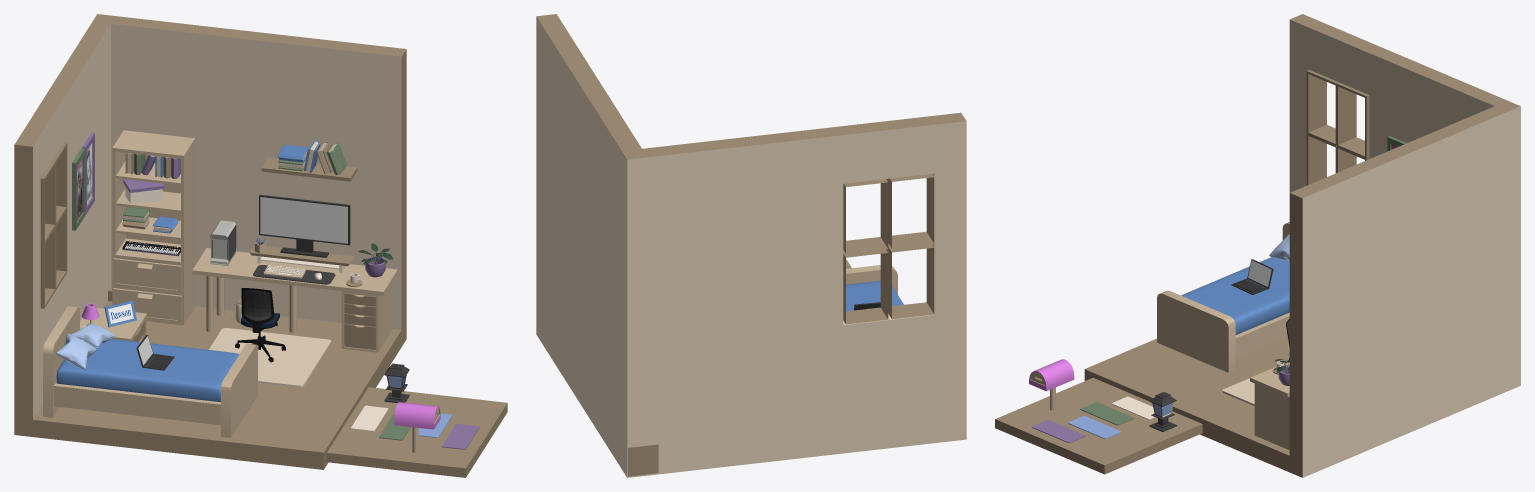
The model's file is room_group.glb.
3 renders of one model, left to right at view 1: azimuth 30°, elevation 25°; view 2: azimuth 150°, elevation 25°; view 3: azimuth 270°, elevation 25°, orthographic. The views are drawn at different scales.
Visible parts, largest first — view 1: Room, Bed, Shelf, Outside, Table, Monitor, Floor Items, Shelf Items, Wall Shelf, Peripherals, Mini Table, Chair Top (+10 smaller); view 2: Room, Bed, Cube; view 3: Room, Bed, Outside, Table, Mailbox, Laptop, Lamp, OutsideCarpet1, OutsideCarpet2, OutsideCarpet3.
Boxes of the visible parts, x1,y1,x2,y2 form: Room: (14, 14, 406, 469); Bed: (43, 305, 257, 437); Shelf: (112, 130, 194, 325); Outside: (327, 387, 507, 477); Table: (192, 248, 397, 352); Monitor: (259, 194, 350, 257); Floor Items: (209, 299, 331, 387); Shelf Items: (122, 153, 180, 256); Wall Shelf: (261, 141, 357, 181); Peripherals: (210, 220, 393, 283); Mini Table: (249, 237, 354, 272); Chair Top: (241, 288, 279, 332); Room: (536, 14, 966, 477); Bed: (846, 265, 903, 311); Cube: (628, 444, 658, 476); Room: (1084, 14, 1520, 477); Bed: (1157, 222, 1289, 372); Outside: (995, 378, 1202, 474); Table: (1250, 362, 1289, 449); Mailbox: (1029, 359, 1074, 410); Laptop: (1231, 259, 1273, 294); Lamp: (1149, 392, 1176, 431); OutsideCarpet1: (1080, 402, 1133, 425); OutsideCarpet2: (1068, 416, 1121, 439); OutsideCarpet3: (1032, 420, 1085, 443).
Bounding box in the file's own units: 3.17 × 2.24 × 3.82.
Materials: 29 (4 with a texture image).
